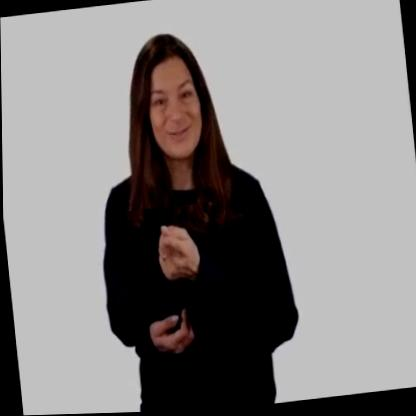HowAreYou: (126, 203, 230, 384)
